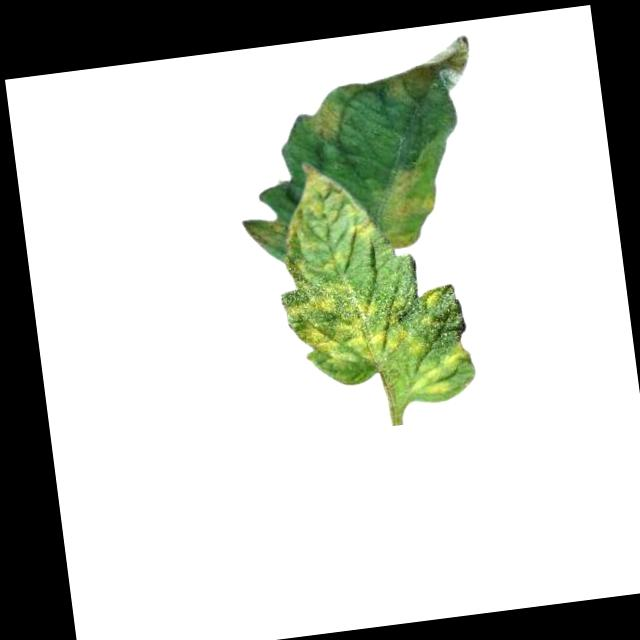Leaf_Mold: (275, 239, 479, 413), (368, 130, 461, 252), (374, 32, 477, 108), (290, 157, 360, 223), (303, 95, 355, 144), (240, 213, 294, 250), (345, 213, 378, 241)
